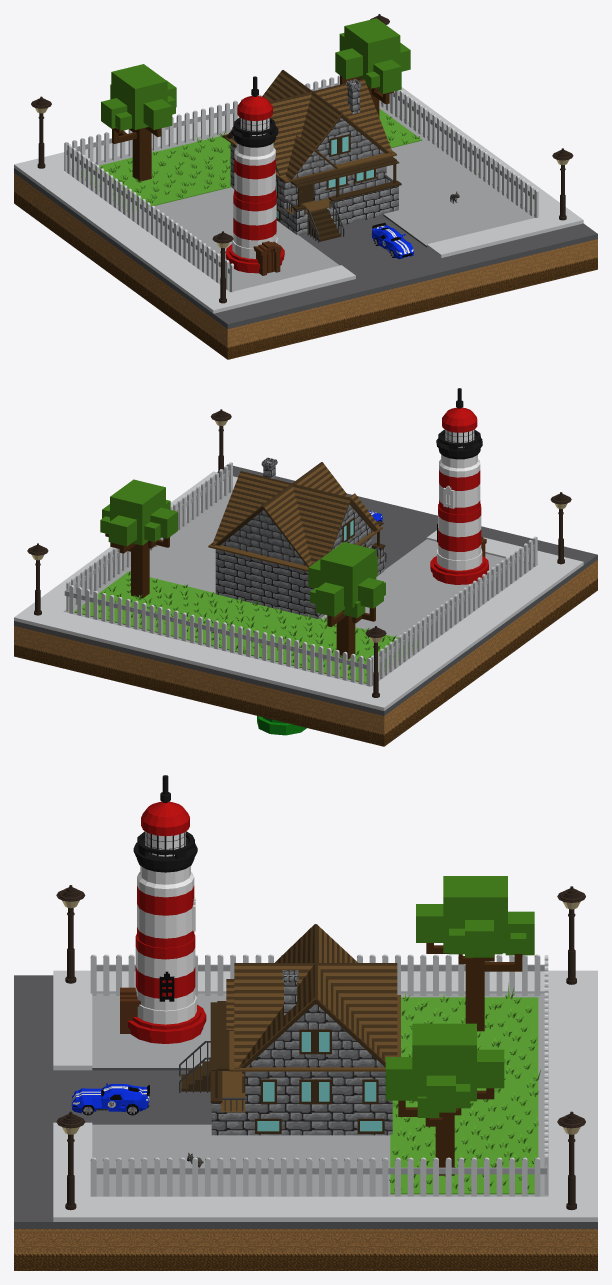
The picture shows the model from 3 angles, top to bottom: view 1: azimuth 30°, elevation 25°; view 2: azimuth 150°, elevation 25°; view 3: azimuth 270°, elevation 25°; orthographic projection. The views are drawn at different scales.
Parts seen in each view (by area): view 1: Cube.004, Cube.586, OBJRANDOM_LIGHTHOUSE, VEHICLES_RACING_CAR; view 2: Cube.004, Cube.586, OBJRANDOM_LIGHTHOUSE, UNDERGROUND_PIPES; view 3: Cube.004, Cube.586, OBJRANDOM_LIGHTHOUSE, VEHICLES_RACING_CAR.
Part boxes in pixels (left/top/right/bottom): Cube.004: left=14, top=14, right=597, bottom=359; Cube.586: left=222, top=70, right=401, bottom=242; OBJRANDOM_LIGHTHOUSE: left=225, top=76, right=284, bottom=275; VEHICLES_RACING_CAR: left=371, top=223, right=413, bottom=259; Cube.004: left=14, top=409, right=597, bottom=746; Cube.586: left=208, top=457, right=386, bottom=618; OBJRANDOM_LIGHTHOUSE: left=430, top=388, right=488, bottom=584; UNDERGROUND_PIPES: left=257, top=716, right=306, bottom=735; Cube.004: left=14, top=876, right=597, bottom=1270; Cube.586: left=179, top=924, right=400, bottom=1135; OBJRANDOM_LIGHTHOUSE: left=120, top=775, right=206, bottom=1043; VEHICLES_RACING_CAR: left=71, top=1083, right=149, bottom=1115.
Size of the model in its own units: 4000 by 2952 by 4000.
Materials: 35 (4 with a texture image).
